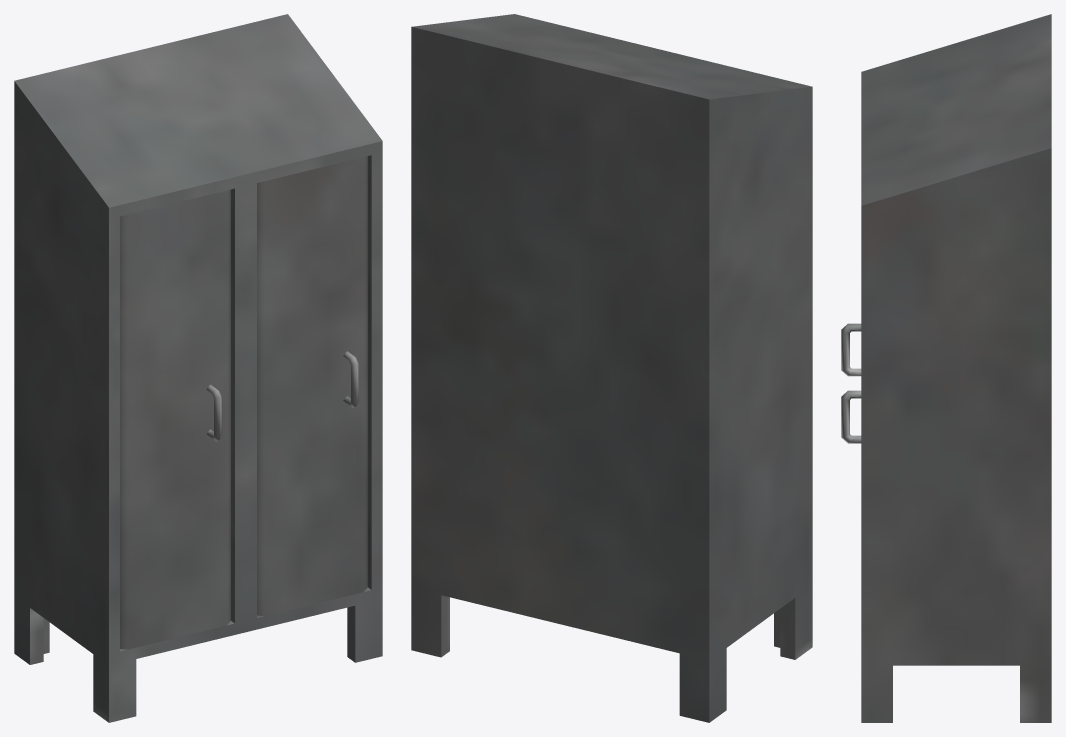
Rendered from double_locker_special.obj.
3 renders of one model, left to right at view 1: azimuth 30°, elevation 25°; view 2: azimuth 150°, elevation 25°; view 3: azimuth 270°, elevation 25°, orthographic. The views are drawn at different scales.
Parts seen in each view (by area): view 1: double_locker_special__EXPORT_TEMP; view 2: double_locker_special__EXPORT_TEMP; view 3: double_locker_special__EXPORT_TEMP.
Boxes of the visible parts, <box> form: double_locker_special__EXPORT_TEMP: <box>14,14,382,722</box>; double_locker_special__EXPORT_TEMP: <box>411,14,812,722</box>; double_locker_special__EXPORT_TEMP: <box>841,14,1051,722</box>.
Bounding box in the file's own units: 1 × 2 × 0.6635.
